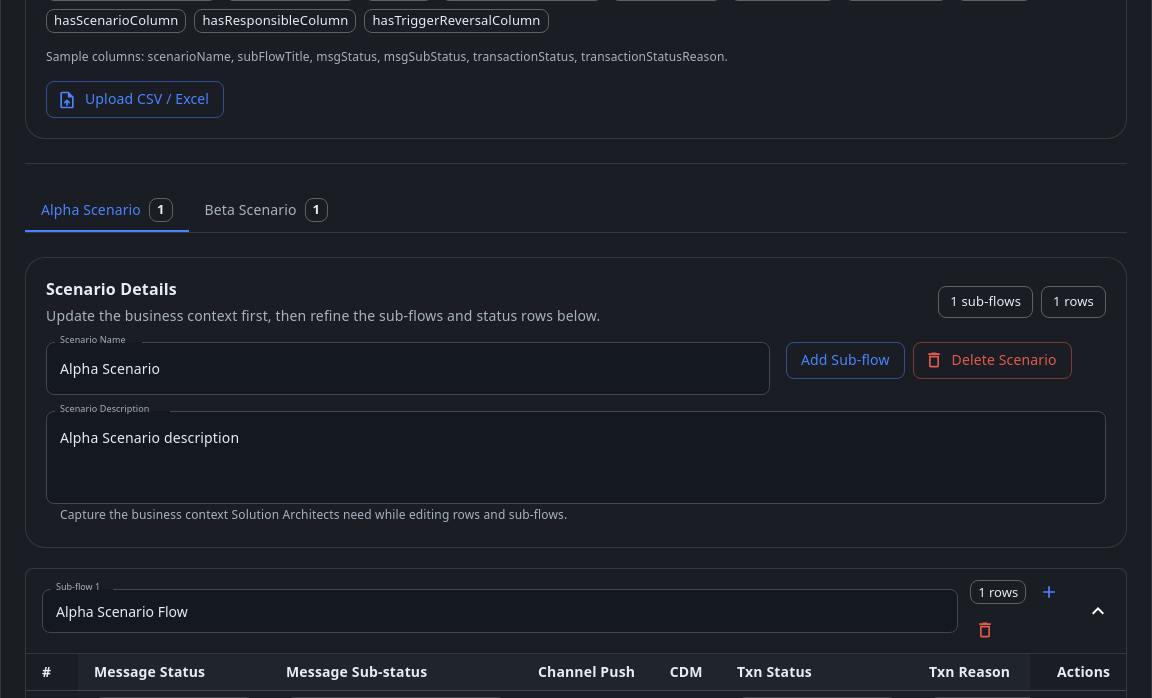
StateManagerPanel › confirms scenario deletion before removing the active scenario
(page scrolled)
Click the button "Delete Scenario": x=992, y=360 [913, 342, 1072, 379]
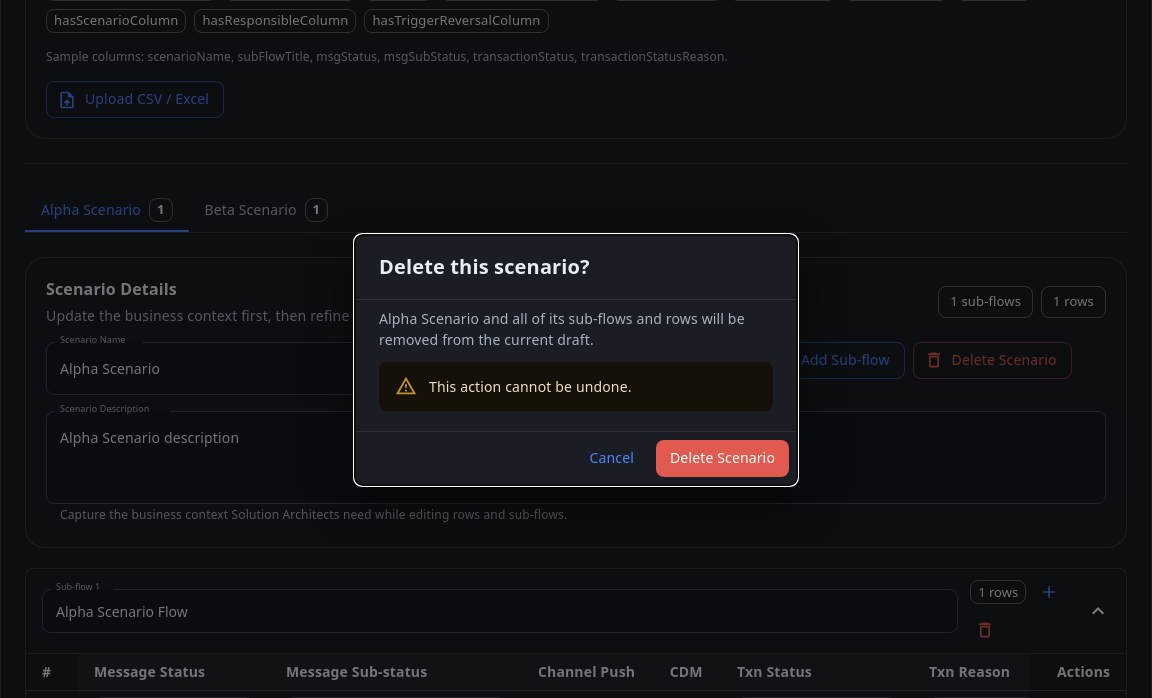
Now the text "Alpha Scenario" is shown, box [379, 309, 479, 328]
Click the button "Delete Scenario": x=722, y=459 [656, 440, 789, 477]
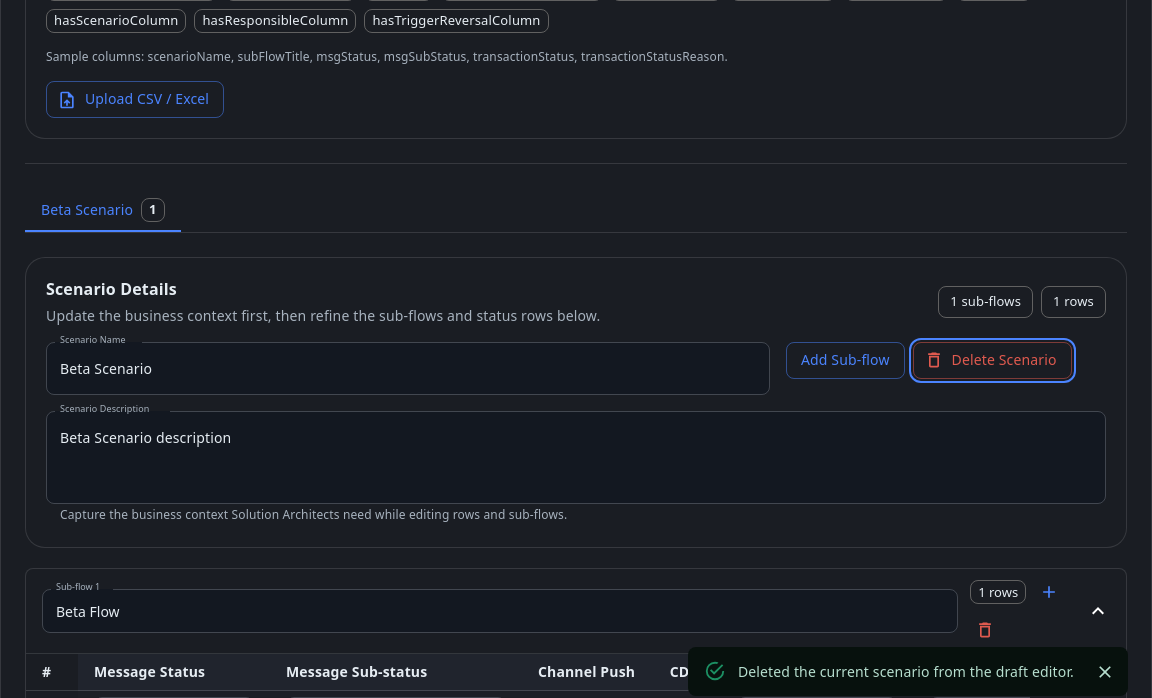
Expected: the text "Beta Scenario" is shown, [41, 199, 133, 220]
Now the tab "Alpha Scenario" is gone
